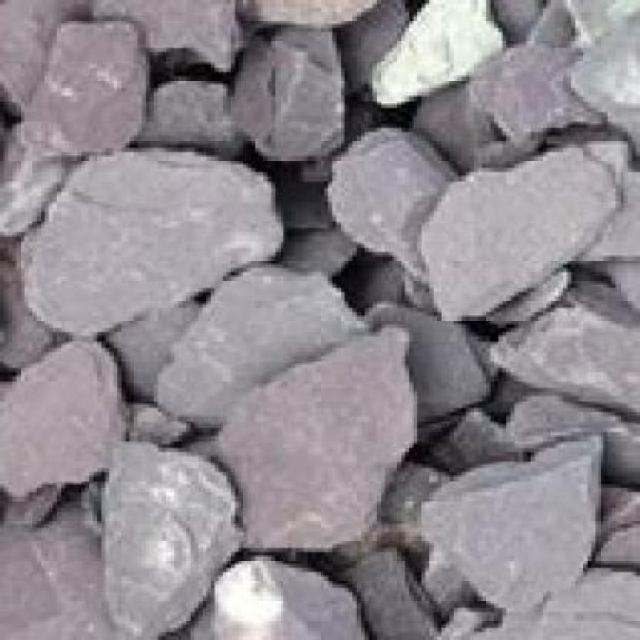rock: (202, 320, 418, 548), (412, 428, 608, 620), (409, 144, 620, 316), (93, 432, 244, 632), (4, 12, 150, 156), (470, 296, 636, 409), (320, 120, 446, 265), (222, 24, 341, 164), (462, 32, 608, 136)
